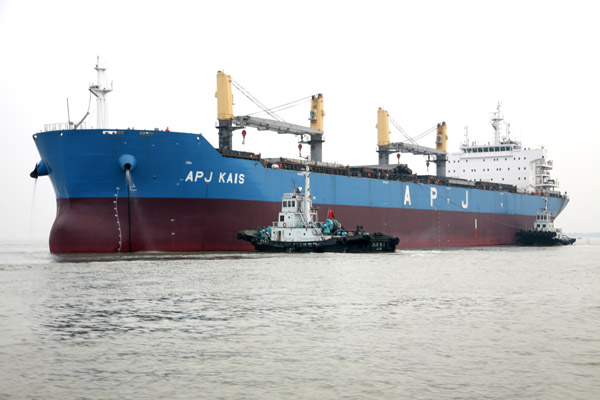Cargoship: (25, 62, 572, 256)
otherboat: (238, 172, 399, 258), (510, 191, 581, 248)
